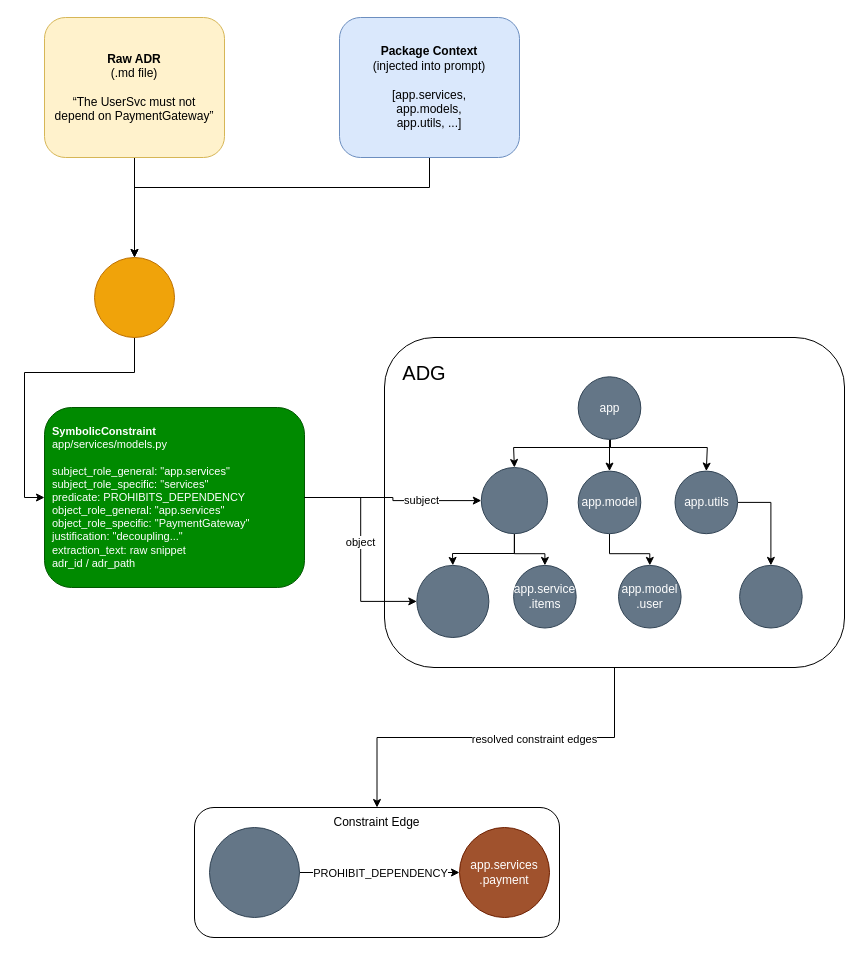
Image size: 862x955. Some labels were removed from this diagram. The box of each missing label's shape, as (x1, y1, x2, y2) in pixels:
app.service .payment: (416, 564, 489, 638)
app.services: (480, 466, 548, 534)
app.services.*: (208, 826, 300, 918)
app.utils.auth: (739, 564, 802, 628)
LLM: (94, 256, 174, 338)
